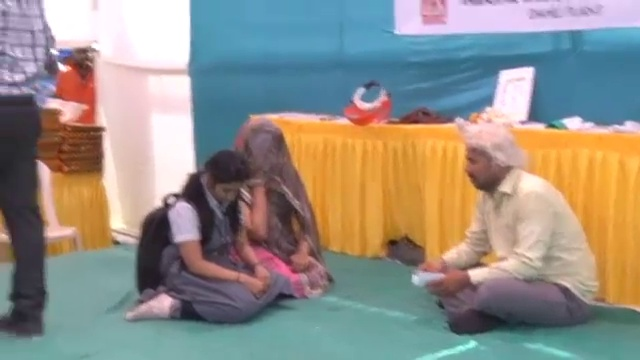helmet: (41, 96, 89, 126)
helmet_off: (453, 126, 522, 192), (196, 148, 253, 214), (237, 118, 289, 188), (71, 42, 100, 80)
person: (428, 120, 595, 323), (127, 159, 285, 330), (0, 0, 61, 343), (223, 121, 328, 299), (50, 46, 101, 121)
